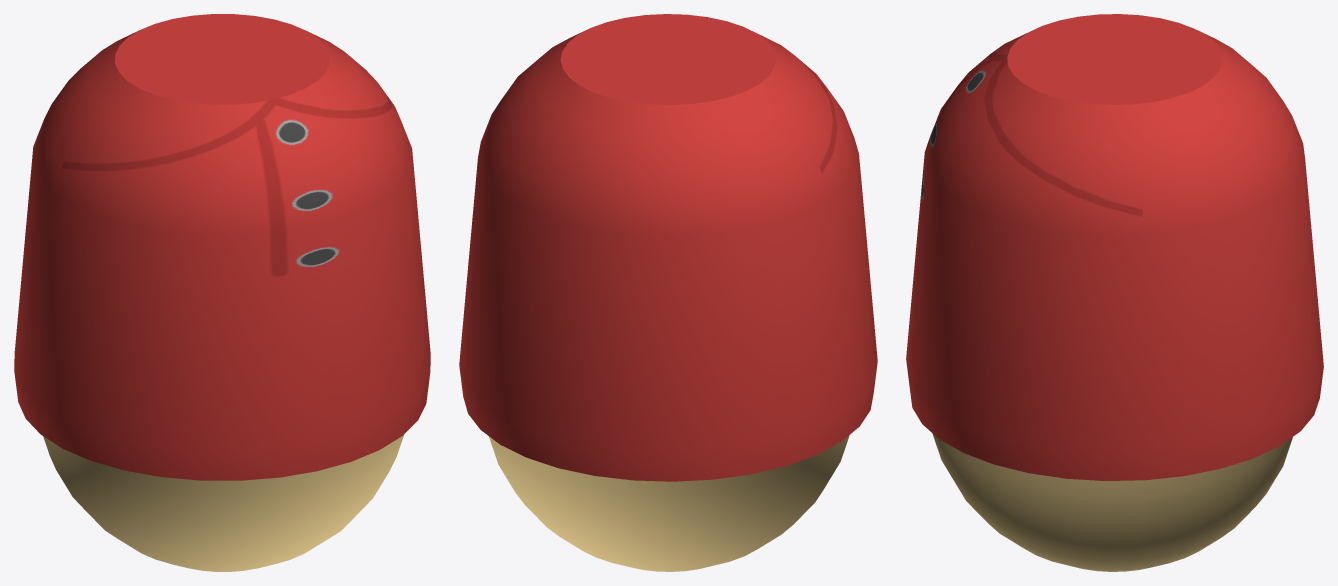
Rendered from Body_ShirtKhakis.FBX.
The picture shows the model from 3 angles, left to right: view 1: azimuth 30°, elevation 25°; view 2: azimuth 150°, elevation 25°; view 3: azimuth 270°, elevation 25°; orthographic projection.
Visible parts, largest first — view 1: Character_Body004; view 2: Character_Body004; view 3: Character_Body004.
Boxes of the visible parts, x1=… form: Character_Body004: x1=14, y1=14, x2=430, y2=571; Character_Body004: x1=459, y1=14, x2=877, y2=571; Character_Body004: x1=906, y1=14, x2=1323, y2=571.
Size of the model in its own units: 62.55 by 81.74 by 62.55.
